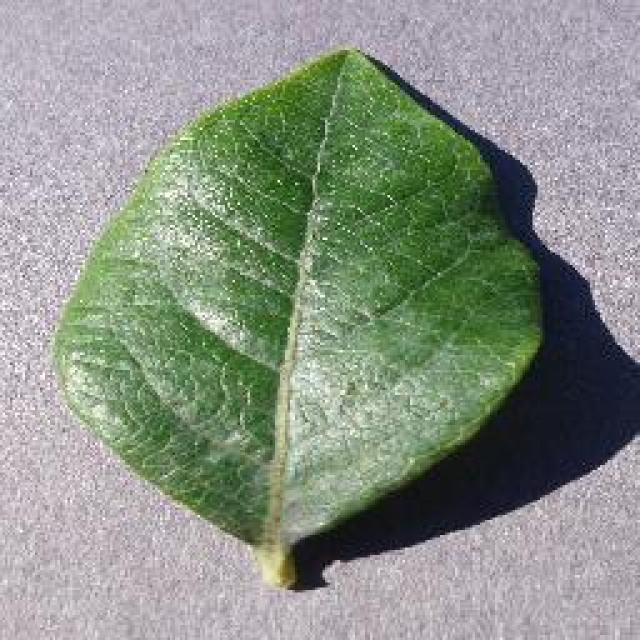Blu_healthy: (99, 136, 510, 484)
